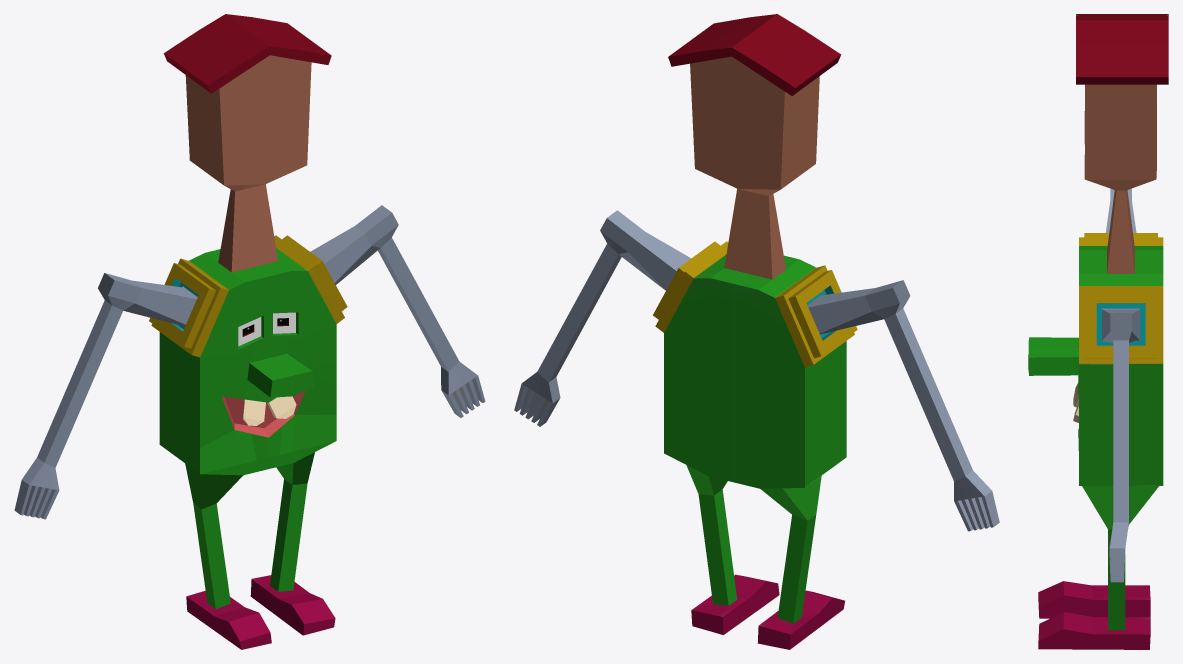
The model's file is juicer.fbx.
3 views of the same model, side by side, from view 1: azimuth 30°, elevation 25°; view 2: azimuth 150°, elevation 25°; view 3: azimuth 270°, elevation 25° (orthographic). The views are drawn at different scales.
Parts seen in each view (by area): view 1: Cube; view 2: Cube; view 3: Cube.
Part boxes in pixels (x1,y1,x2,y2): Cube: [14, 14, 485, 649]; Cube: [514, 14, 999, 649]; Cube: [1028, 14, 1168, 649].
Bounding box in the file's own units: 456 × 544 × 114.
1 material, 1 textured.
